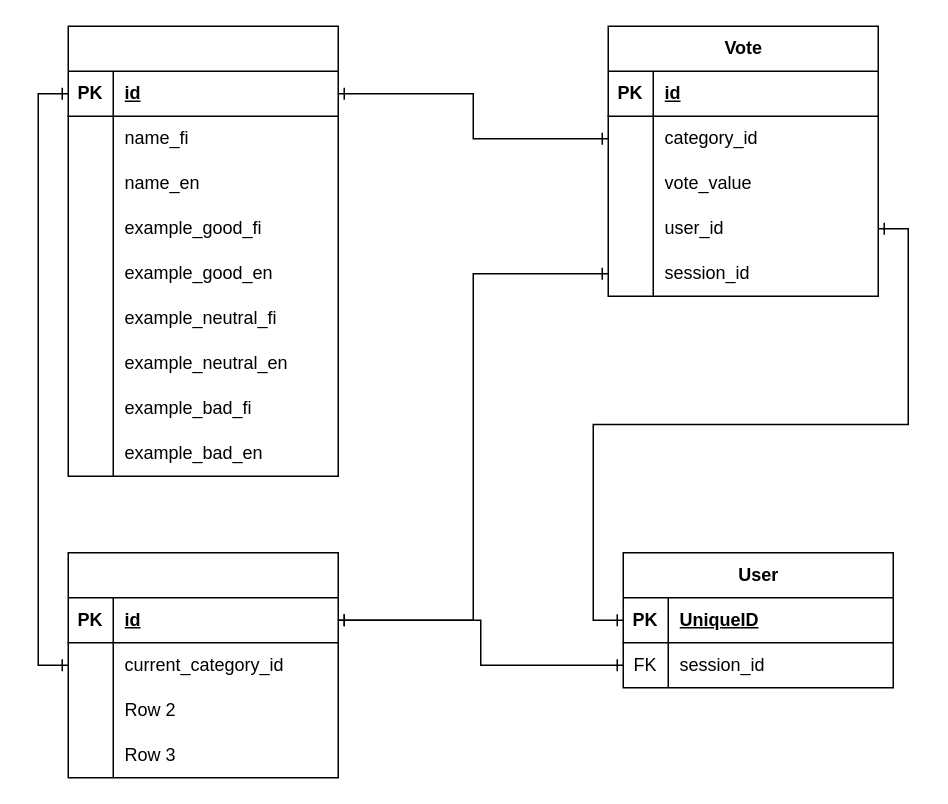
Image size: 948x804. Some labels were removed from this diagram. Each missing label, with the box of its shape:
Category: (67, 25, 338, 476)
Session: (67, 551, 338, 778)
